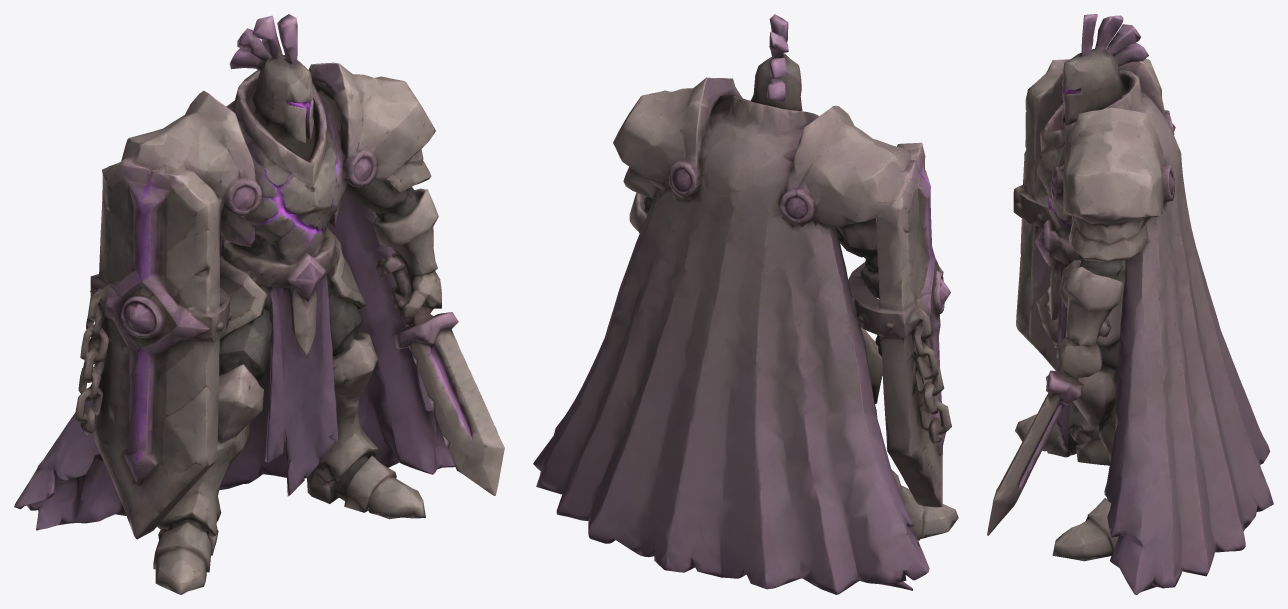
File: boss_twin_warden_violet.glb
3 renders of one model, left to right at view 1: azimuth 30°, elevation 25°; view 2: azimuth 150°, elevation 25°; view 3: azimuth 270°, elevation 25°, orthographic. The views are drawn at different scales.
Visible parts, largest first — view 1: Body, Shield, Helm, Sword; view 2: Body, Shield, Helm; view 3: Body, Helm, Sword, Shield.
Boxes of the visible parts, x1=… form: Body: x1=14, y1=62, x2=458, y2=594; Shield: x1=47, y1=208, x2=214, y2=537; Helm: x1=226, y1=14, x2=358, y2=143; Sword: x1=384, y1=308, x2=504, y2=495; Body: x1=533, y1=77, x2=958, y2=594; Shield: x1=836, y1=224, x2=951, y2=542; Helm: x1=689, y1=14, x2=817, y2=150; Body: x1=1013, y1=59, x2=1273, y2=594; Helm: x1=1061, y1=14, x2=1157, y2=140; Sword: x1=987, y1=381, x2=1123, y2=566; Shield: x1=1016, y1=185, x2=1060, y2=371.
Bounding box in the file's own units: 1.99 × 2.2 × 1.17.
Materials: 1 (1 with a texture image).
